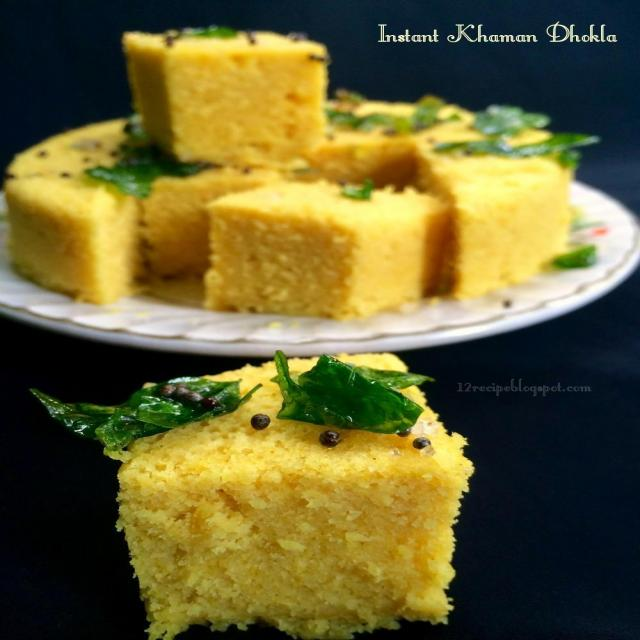dhokla: (47, 25, 557, 312), (98, 368, 528, 640)
